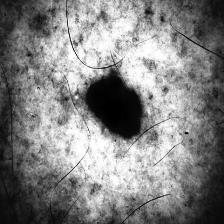Benign Marking or Mole: (87, 79, 148, 139)
